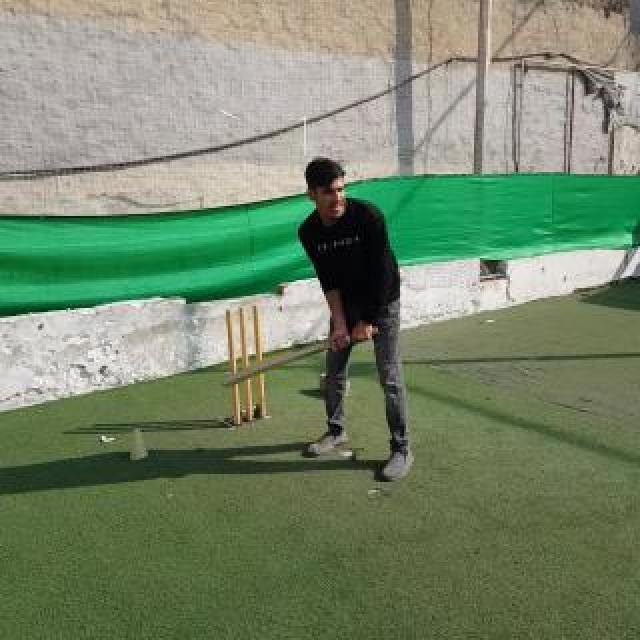bat: (222, 326, 380, 388)
